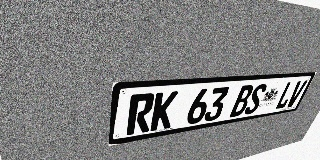3: (203, 87, 230, 122)
6: (185, 88, 213, 125)
B: (229, 85, 255, 117)
K: (150, 91, 178, 131)
L: (274, 81, 298, 110)
R: (126, 93, 156, 135)
S: (243, 83, 268, 115)
V: (284, 80, 308, 108)
